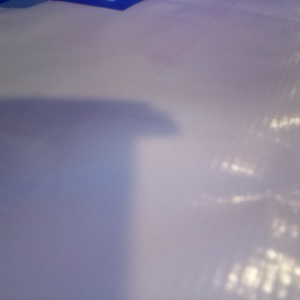bottom_right: (1, 1, 48, 9)
